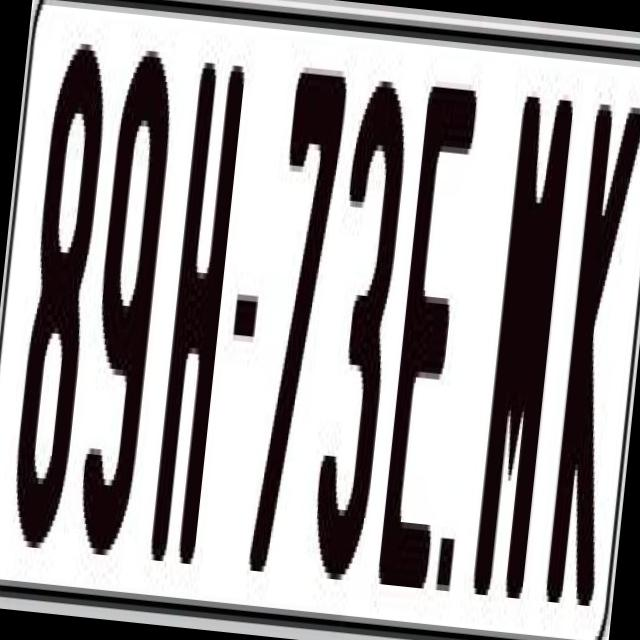3: (306, 66, 415, 570)
7: (243, 54, 352, 569)
8: (2, 35, 110, 562)
9: (70, 48, 182, 574)
E: (372, 86, 482, 590)
H: (146, 45, 244, 552)
K: (539, 85, 640, 617)
M: (470, 96, 574, 622)
